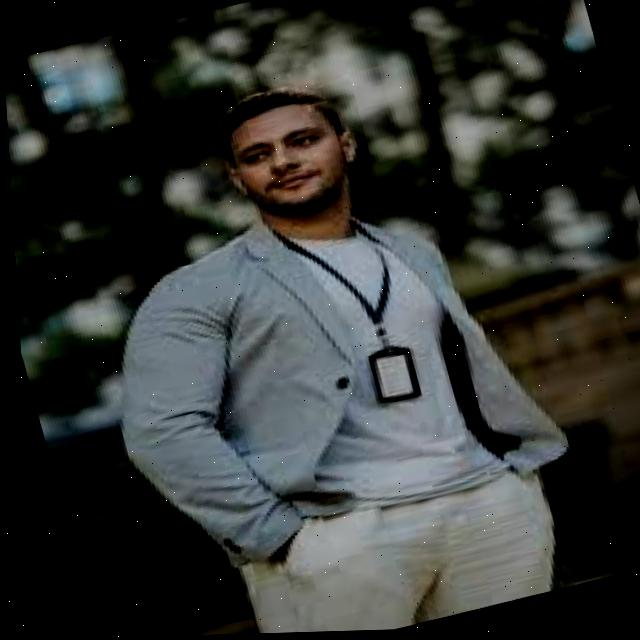id_card: (265, 202, 443, 438)
